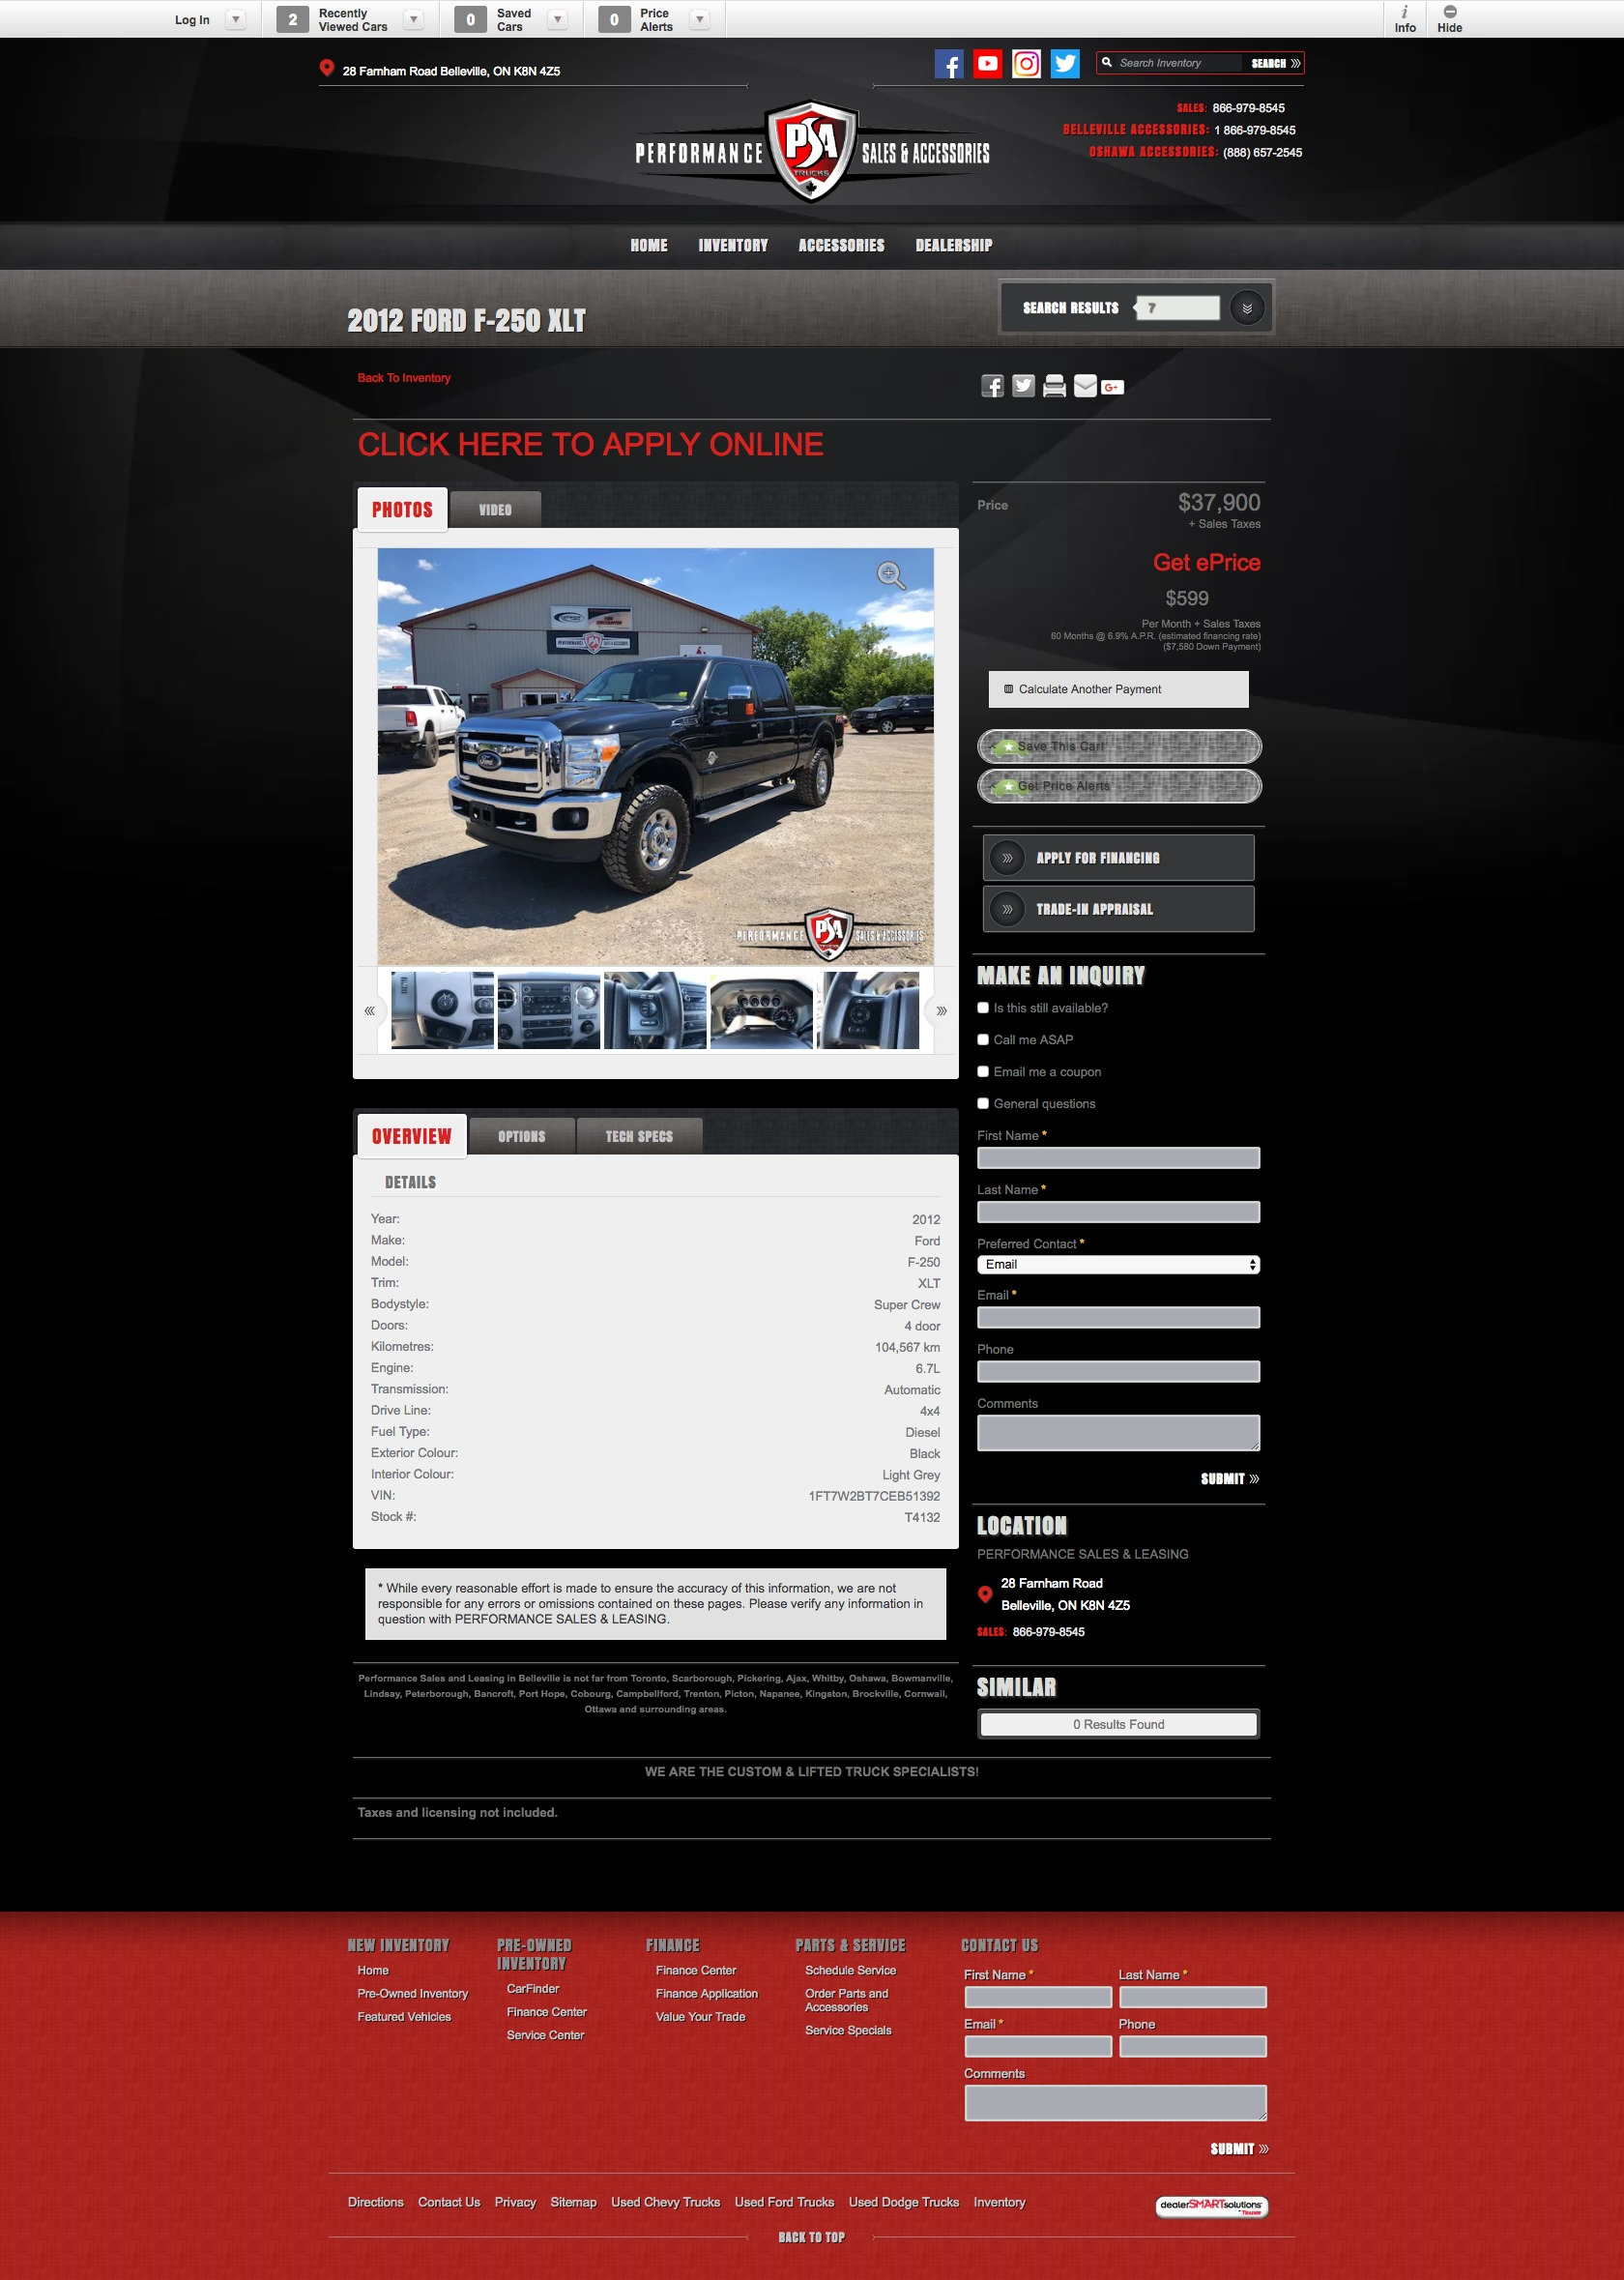car: (937, 1007, 949, 1018)
